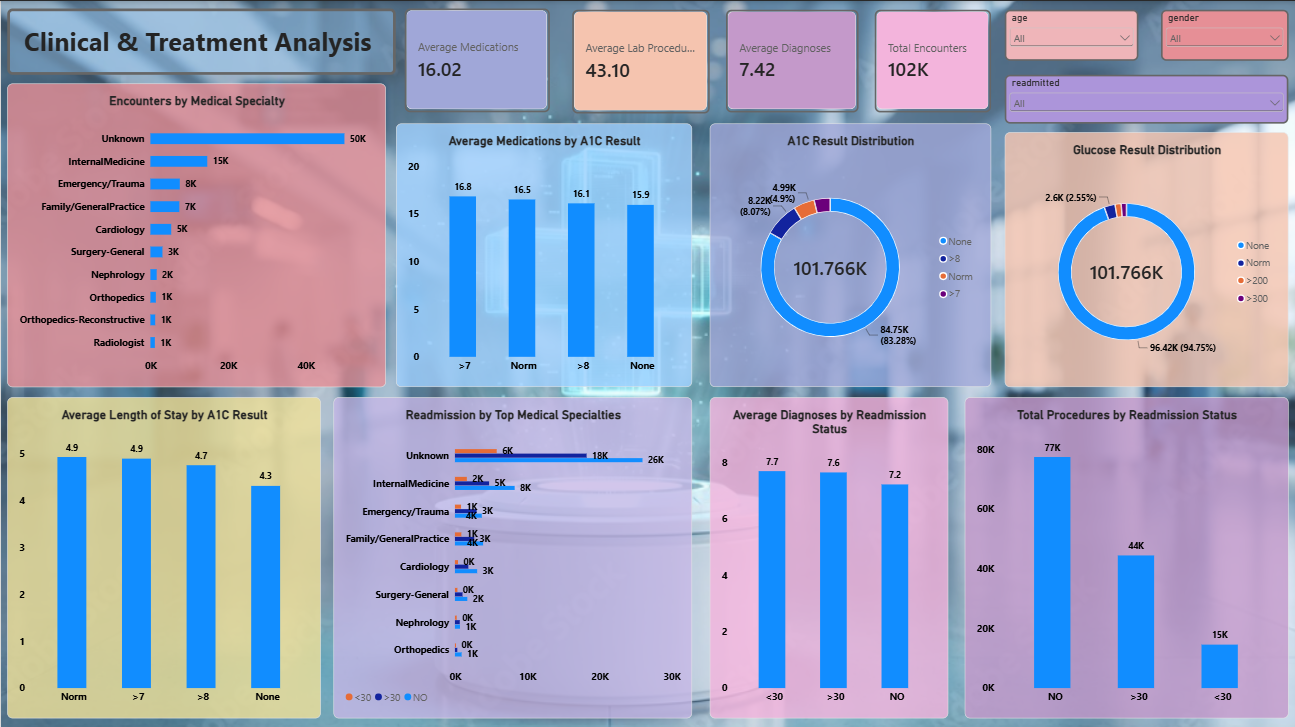

The page's visual inventory and layout, read from the dashboard file:
{"tool":"powerbi","page":{"name":"Clinical & Treatment Analysis","canvas":[1920,1080],"ordinal":4},"visuals":[{"type":"textbox","box":[9.2,11,572.4,97.5],"z":0},{"type":"cardVisual","fields":{"Data":["diabetic_data.Total Encounters"]},"box":[1286.5,12.9,171.2,150.9],"z":1000},{"type":"cardVisual","fields":{"Data":["diabetic_data.Average Medications"]},"box":[594.5,11,213.5,152.8],"z":2000},{"type":"cardVisual","fields":{"Data":["diabetic_data.Average Diagnoses"]},"box":[1067.5,12.9,195.1,150.9],"z":3000},{"type":"cardVisual","fields":{"Data":["diabetic_data.Average Lab Procedures"]},"box":[841.1,12.9,202.5,152.8],"z":4000},{"type":"clusteredBarChart","title":"Encounters by Medical Specialty","fields":{"Category":["diabetic_data.medical_specialty"],"Y":["CountNonNull(diabetic_data.encounter_id)"]},"box":[9.2,121.5,557.7,447.2],"z":5000},{"type":"clusteredBarChart","title":"Readmission by Top Medical Specialties","fields":{"Category":["diabetic_data.medical_specialty"],"Series":["diabetic_data.readmitted"],"Y":["CountNonNull(diabetic_data.encounter_id)"]},"box":[489.6,583.4,528.2,473],"z":6000},{"type":"donutChart","title":"A1C Result Distribution","fields":{"Category":["diabetic_data.A1Cresult"],"Y":["CountNonNull(diabetic_data.encounter_id)"]},"box":[1043.6,180.4,414.1,388.3],"z":7000},{"type":"donutChart","title":"Glucose Result Distribution","fields":{"Category":["diabetic_data.max_glu_serum"],"Y":["CountNonNull(diabetic_data.encounter_id)"]},"box":[1477.9,193.3,417.8,375.5],"z":8000},{"type":"clusteredColumnChart","title":"Average Medications by A1C Result","fields":{"Category":["diabetic_data.A1Cresult"],"Y":["diabetic_data.Average Medications"]},"box":[581.6,180.4,436.2,388.3],"z":9000},{"type":"clusteredColumnChart","title":"Average Length of Stay by A1C Result","fields":{"Category":["diabetic_data.A1Cresult"],"Y":["diabetic_data.Average Length of Stay"]},"box":[9.2,583.4,462,473],"z":10000},{"type":"clusteredColumnChart","title":"Average Diagnoses by Readmission Status","fields":{"Category":["diabetic_data.readmitted"],"Y":["diabetic_data.Average Diagnoses"]},"box":[1043.6,583.4,351.5,473],"z":11000},{"type":"clusteredColumnChart","title":"Total Procedures by Readmission Status","fields":{"Category":["diabetic_data.readmitted"],"Y":["diabetic_data.Total Procedures"]},"box":[1419,583.4,476.7,473],"z":12000},{"type":"slicer","fields":{"Values":["diabetic_data.age"]},"box":[1477.9,12.9,196.9,75.5],"z":13000},{"type":"slicer","fields":{"Values":["diabetic_data.gender"]},"box":[1708,12.9,187.7,75.5],"z":14000},{"type":"slicer","fields":{"Values":["diabetic_data.readmitted"]},"box":[1477.9,108.6,417.8,71.8],"z":15000}]}

Visuals, with their boxes in screenshot pixels (x1, y1, x2, y2), scaled from the page's 1920x1080 canvas onto the 1295x727 screenshot:
textbox: pyautogui.locateOnScreen(6, 7, 392, 73)
cardVisual - diabetic_data.Total Encounters: pyautogui.locateOnScreen(868, 9, 983, 110)
cardVisual - diabetic_data.Average Medications: pyautogui.locateOnScreen(401, 7, 545, 110)
cardVisual - diabetic_data.Average Diagnoses: pyautogui.locateOnScreen(720, 9, 852, 110)
cardVisual - diabetic_data.Average Lab Procedures: pyautogui.locateOnScreen(567, 9, 704, 112)
"Encounters by Medical Specialty" clusteredBarChart: pyautogui.locateOnScreen(6, 82, 382, 383)
"Readmission by Top Medical Specialties" clusteredBarChart: pyautogui.locateOnScreen(330, 393, 686, 711)
"A1C Result Distribution" donutChart: pyautogui.locateOnScreen(704, 121, 983, 383)
"Glucose Result Distribution" donutChart: pyautogui.locateOnScreen(997, 130, 1279, 383)
"Average Medications by A1C Result" clusteredColumnChart: pyautogui.locateOnScreen(392, 121, 686, 383)
"Average Length of Stay by A1C Result" clusteredColumnChart: pyautogui.locateOnScreen(6, 393, 318, 711)
"Average Diagnoses by Readmission Status" clusteredColumnChart: pyautogui.locateOnScreen(704, 393, 941, 711)
"Total Procedures by Readmission Status" clusteredColumnChart: pyautogui.locateOnScreen(957, 393, 1279, 711)
slicer - diabetic_data.age: pyautogui.locateOnScreen(997, 9, 1130, 60)
slicer - diabetic_data.gender: pyautogui.locateOnScreen(1152, 9, 1279, 60)
slicer - diabetic_data.readmitted: pyautogui.locateOnScreen(997, 73, 1279, 121)
